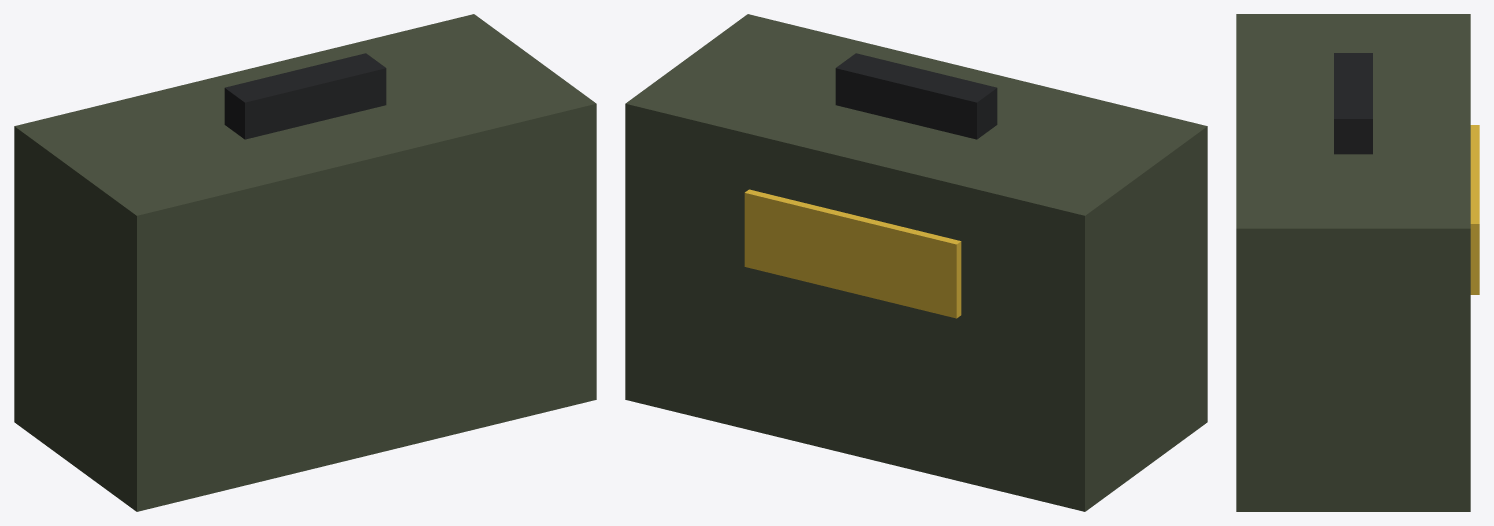
The model's file is AmmoBox.fbx.
3 views of the same model, side by side, from view 1: azimuth 30°, elevation 25°; view 2: azimuth 150°, elevation 25°; view 3: azimuth 270°, elevation 25° (orthographic). The views are drawn at different scales.
Visible parts, largest first — view 1: Box, Handle; view 2: Box, Label, Handle; view 3: Box, Handle, Label.
Part boxes in pixels (x1,y1,x2,y2): Box: [14, 14, 596, 511]; Handle: [224, 53, 386, 139]; Box: [625, 14, 1207, 511]; Label: [744, 189, 961, 318]; Handle: [835, 53, 997, 139]; Box: [1236, 14, 1470, 511]; Handle: [1334, 53, 1372, 154]; Label: [1470, 125, 1479, 294].
Size of the model in its own units: 26 by 12.45 by 18.
